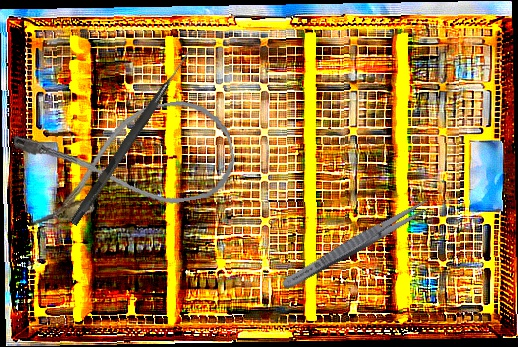Cannula: (11, 93, 241, 229)
Dressing Forceps: (279, 193, 435, 294)
Hook Surgical: (69, 47, 193, 228)
